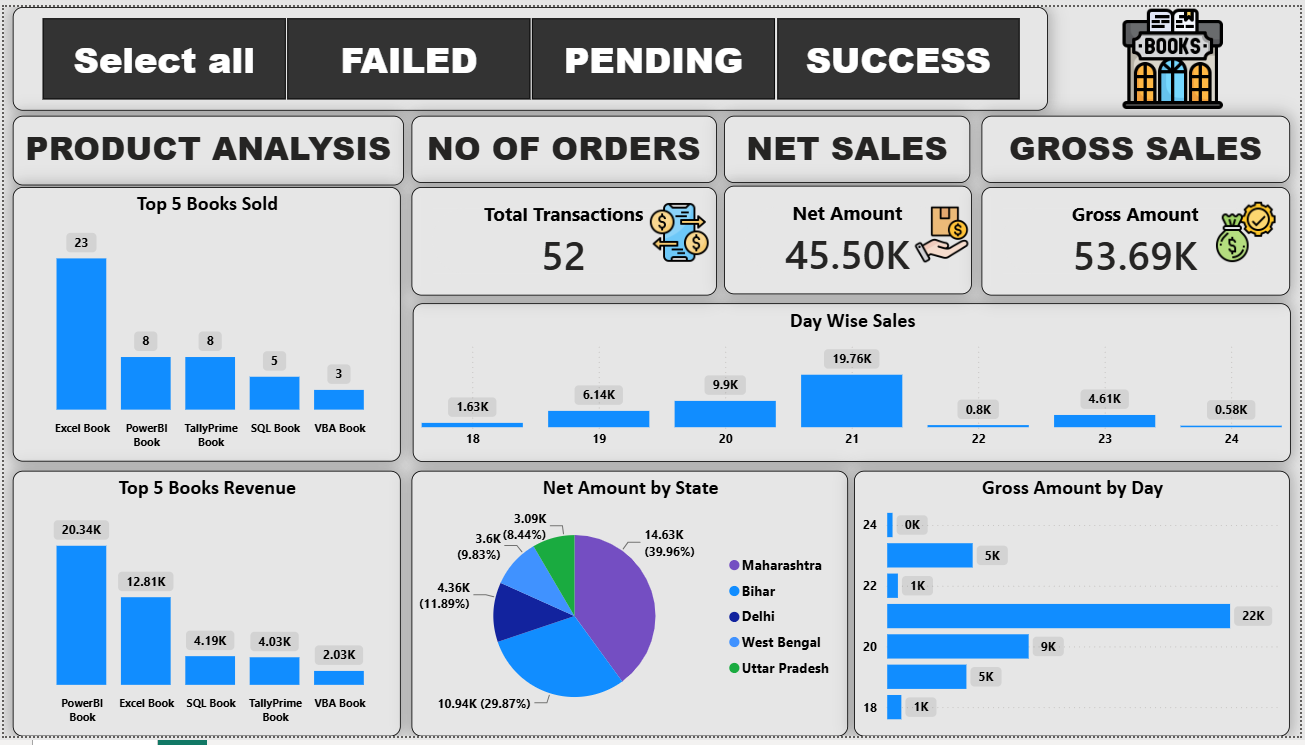

The page's visual inventory and layout, read from the dashboard file:
{"tool":"powerbi","page":{"name":"Dashboard","canvas":[1280,720],"ordinal":0},"visuals":[{"type":"shape","box":[0,0,1270.5,116.2],"z":0},{"type":"slicer","fields":{"Values":["7 Days Books Sales Report File.Payment Status"]},"box":[8.6,0,1022.3,102.7],"z":2000},{"type":"textbox","box":[8.4,107.2,386.7,68.7],"z":3000},{"type":"textbox","box":[402.4,107.2,301.2,66.3],"z":4000},{"type":"textbox","box":[710.8,107.2,243.4,66.3],"z":5000},{"type":"textbox","box":[965.1,107.2,304.8,66.3],"z":6000},{"type":"clusteredColumnChart","title":"Top 5 Books Sold","fields":{"Category":["7 Days Books Sales Report File.Books"],"Y":["CountNonNull(7 Days Books Sales Report File.Books)"]},"box":[8.4,178.3,383.1,271.1],"z":7000},{"type":"clusteredColumnChart","title":"Top 5 Books Revenue","fields":{"Category":["7 Days Books Sales Report File.Books"],"Y":["Sum(7 Days Books Sales Report File.Net Amount)"]},"box":[8.4,457.8,383.1,262.7],"z":8000},{"type":"clusteredColumnChart","title":"Day Wise Sales","fields":{"Category":["7 Days Books Sales Report File.Order Date.Variation.Date Hierarchy.Day"],"Y":["Sum(7 Days Books Sales Report File.Net Amount)"]},"box":[403.6,292.8,867.5,156.6],"z":9000},{"type":"cardVisual","fields":{"Data":["CountNonNull(7 Days Books Sales Report File.OrderId)"]},"box":[402.4,178.3,301.2,107.2],"z":10000},{"type":"cardVisual","fields":{"Data":["Sum(7 Days Books Sales Report File.Net Amount)"]},"box":[710.8,177.1,244.6,107.2],"z":11000},{"type":"cardVisual","fields":{"Data":["Sum(7 Days Books Sales Report File.Gross Amount)"]},"box":[965.1,178.3,304.8,107.2],"z":12000},{"type":"pieChart","fields":{"Category":["7 Days Books Sales Report File.State"],"Y":["Sum(7 Days Books Sales Report File.Net Amount)"]},"box":[402.4,457.8,431.3,262.7],"z":13000},{"type":"clusteredBarChart","fields":{"Category":["7 Days Books Sales Report File.Order Date.Variation.Date Hierarchy.Day"],"Y":["Sum(7 Days Books Sales Report File.Gross Amount)"]},"box":[839.8,457.8,430.1,262.7],"z":14000},{"type":"image","box":[618.1,192.8,96.4,60.2],"z":15000},{"type":"image","box":[872.3,196.4,106,56.6],"z":16000},{"type":"image","box":[1172.3,191.6,107.2,61.4],"z":17000},{"type":"image","box":[1038.6,0,231.3,102.4],"z":17001}]}

Visuals, with their boxes in screenshot pixels (x1, y1, x2, y2), scaled from the page's 1280x720 canvas onto the 1305x745 screenshot:
shape: bbox=[0, 0, 1295, 120]
slicer - 7 Days Books Sales Report File.Payment Status: bbox=[9, 0, 1051, 106]
textbox: bbox=[9, 111, 403, 182]
textbox: bbox=[410, 111, 717, 180]
textbox: bbox=[725, 111, 973, 180]
textbox: bbox=[984, 111, 1295, 180]
"Top 5 Books Sold" clusteredColumnChart: bbox=[9, 184, 399, 465]
"Top 5 Books Revenue" clusteredColumnChart: bbox=[9, 474, 399, 744]
"Day Wise Sales" clusteredColumnChart: bbox=[411, 303, 1296, 465]
cardVisual - CountNonNull(7 Days Books Sales Report File.OrderId): bbox=[410, 184, 717, 295]
cardVisual - Sum(7 Days Books Sales Report File.Net Amount): bbox=[725, 183, 974, 294]
cardVisual - Sum(7 Days Books Sales Report File.Gross Amount): bbox=[984, 184, 1295, 295]
pieChart - 7 Days Books Sales Report File.State x Sum(7 Days Books Sales Report File.Net Amount): bbox=[410, 474, 850, 744]
clusteredBarChart - 7 Days Books Sales Report File.Order Date.Variation.Date Hierarchy.Day x Sum(7 Days Books Sales Report File.Gross Amount): bbox=[856, 474, 1295, 744]
image: bbox=[630, 199, 728, 262]
image: bbox=[889, 203, 997, 262]
image: bbox=[1195, 198, 1304, 262]
image: bbox=[1059, 0, 1295, 106]
